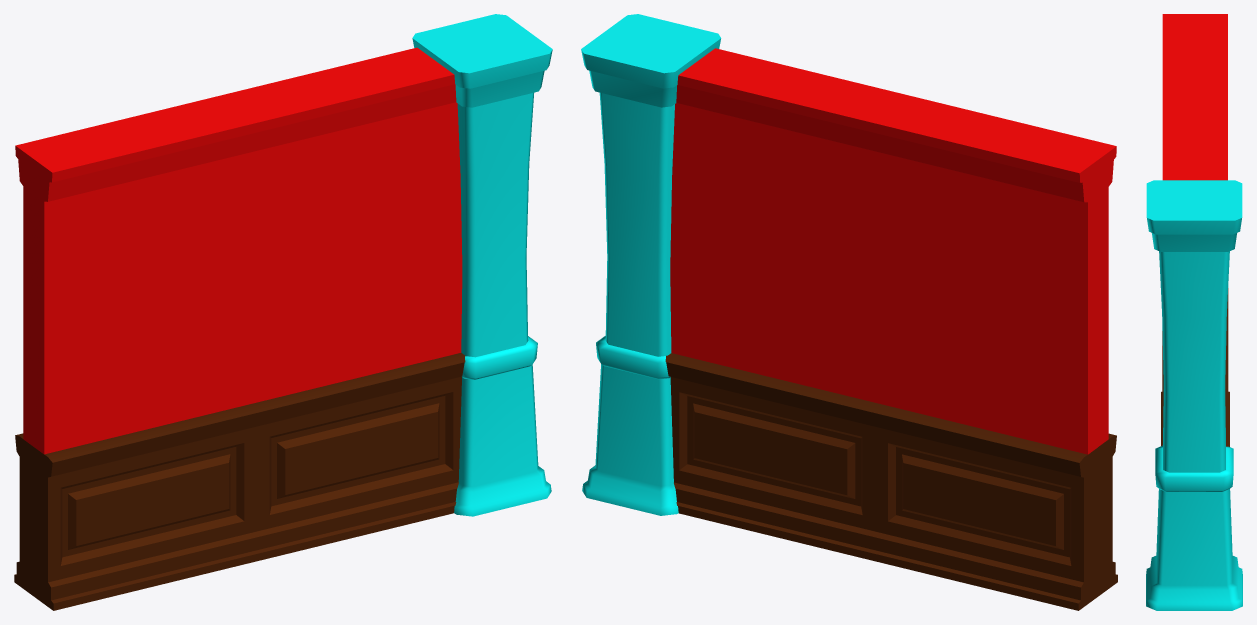
The model's file is pared_hab90.fbx.
The picture shows the model from 3 angles, left to right: view 1: azimuth 30°, elevation 25°; view 2: azimuth 150°, elevation 25°; view 3: azimuth 270°, elevation 25°; orthographic projection. The views are drawn at different scales.
Parts seen in each view (by area): view 1: Wall_Top_low.001; view 2: Wall_Top_low.001; view 3: Wall_Top_low.001.
Part boxes in pixels (box(x1,y1,x2,y2)): Wall_Top_low.001: box(14, 14, 552, 610); Wall_Top_low.001: box(581, 14, 1117, 610); Wall_Top_low.001: box(1146, 14, 1242, 610).
Bounding box in the file's own units: 430 × 369 × 82.76.
